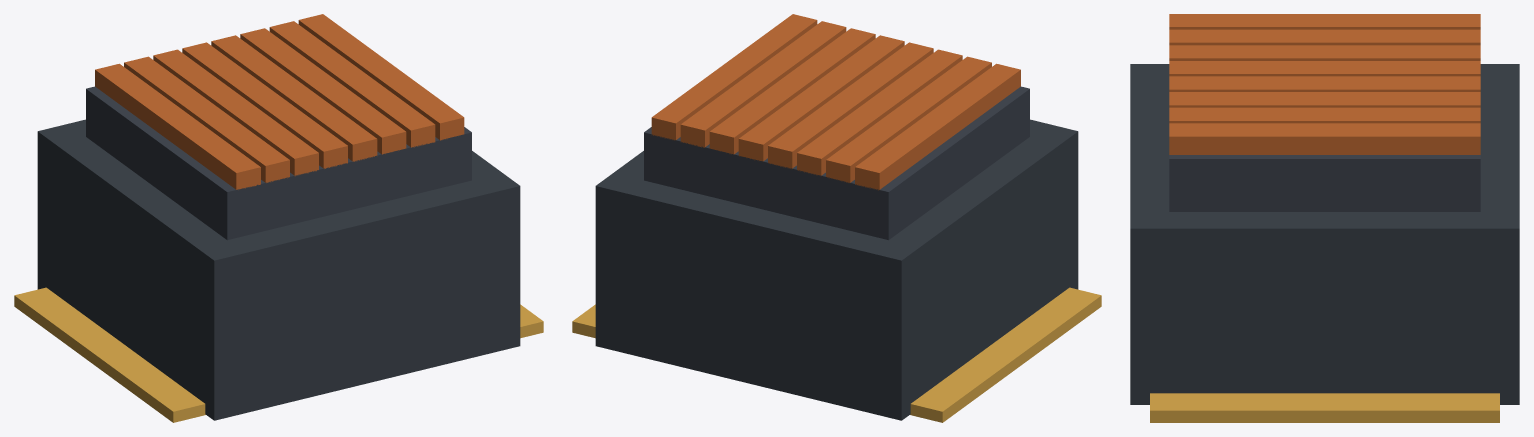
Rendered from 032_L110_L03_INDUCTOR.fbx.
3 renders of one model, left to right at view 1: azimuth 30°, elevation 25°; view 2: azimuth 150°, elevation 25°; view 3: azimuth 270°, elevation 25°, orthographic. The views are drawn at different scales.
Visible parts, largest first — view 1: L110_L03_INDUCTOR_DARK_METAL, L110_L03_INDUCTOR_COPPER, L110_L03_INDUCTOR_POLYMER, L110_L03_INDUCTOR_GOLD; view 2: L110_L03_INDUCTOR_DARK_METAL, L110_L03_INDUCTOR_COPPER, L110_L03_INDUCTOR_POLYMER, L110_L03_INDUCTOR_GOLD; view 3: L110_L03_INDUCTOR_DARK_METAL, L110_L03_INDUCTOR_COPPER, L110_L03_INDUCTOR_POLYMER, L110_L03_INDUCTOR_GOLD.
Part boxes in pixels (x1,y1,x2,y2): L110_L03_INDUCTOR_DARK_METAL: (37, 119, 520, 420); L110_L03_INDUCTOR_COPPER: (95, 14, 464, 189); L110_L03_INDUCTOR_POLYMER: (86, 86, 471, 240); L110_L03_INDUCTOR_GOLD: (14, 287, 543, 422); L110_L03_INDUCTOR_DARK_METAL: (595, 119, 1078, 420); L110_L03_INDUCTOR_COPPER: (651, 14, 1020, 190); L110_L03_INDUCTOR_POLYMER: (644, 86, 1029, 240); L110_L03_INDUCTOR_GOLD: (572, 287, 1101, 422); L110_L03_INDUCTOR_DARK_METAL: (1130, 64, 1519, 404); L110_L03_INDUCTOR_COPPER: (1169, 14, 1480, 154); L110_L03_INDUCTOR_POLYMER: (1169, 155, 1480, 211); L110_L03_INDUCTOR_GOLD: (1150, 393, 1499, 422).
Size of the model in its own units: 12.1 by 10 by 7.05.
